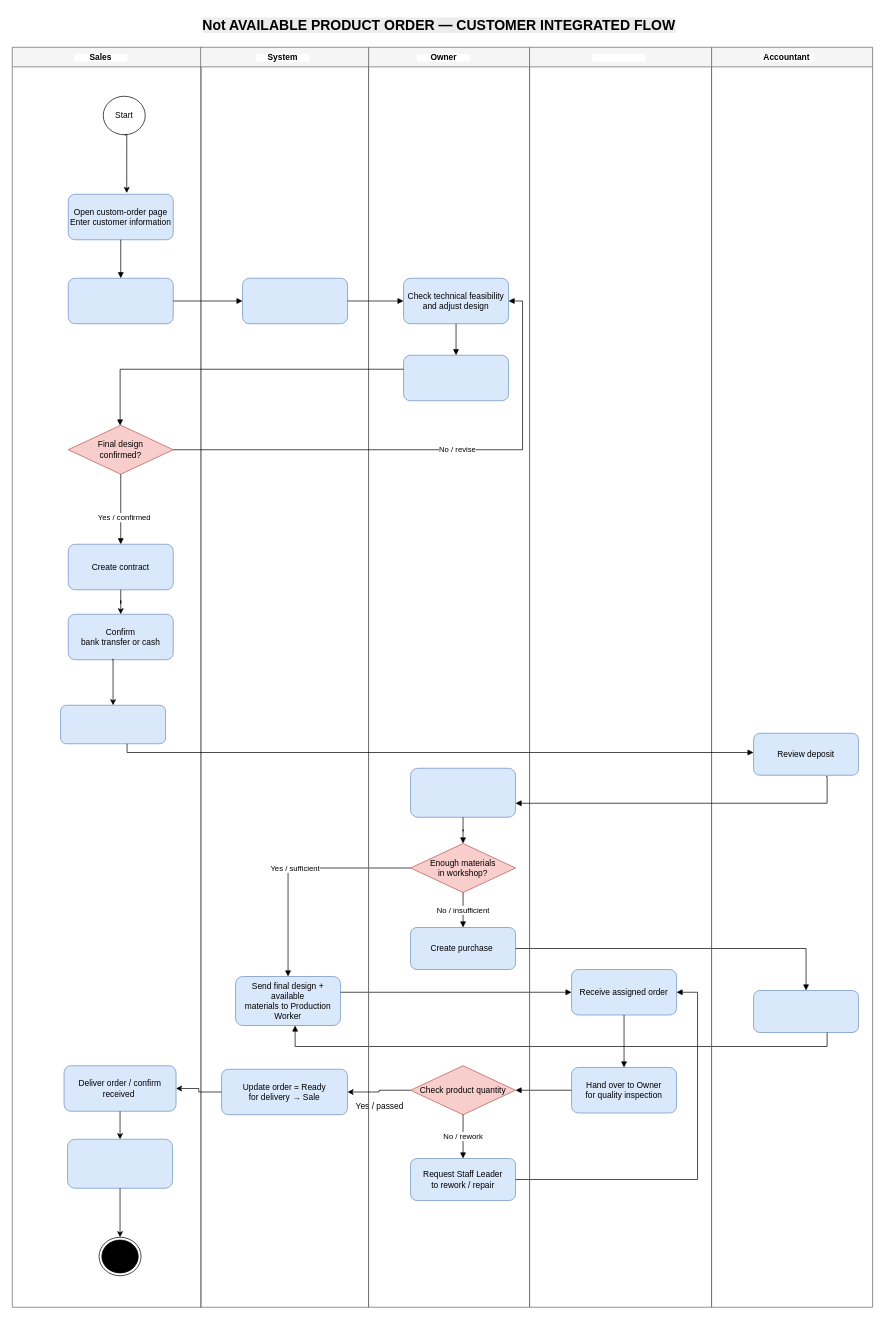
Some shapes in this 885 by 1320 pixel diagram are drawn without their labels. Here are the shapes that lost their labels. From the top down, the box of each, then its label:
(68, 278, 173, 324): Collect product specifications and customer requirements
(242, 278, 348, 324): Save requirement and send to Owner
(403, 355, 509, 401): Work to finalize design
(529, 47, 712, 1307): Staff Leader
(60, 705, 166, 744): Accept contract
(410, 768, 516, 817): After contract + deposit: check wood, paint & materials
(753, 990, 859, 1032): Receive & update materials in stock
(67, 1139, 173, 1188): Hand over to customer; Sale confirms final payment
